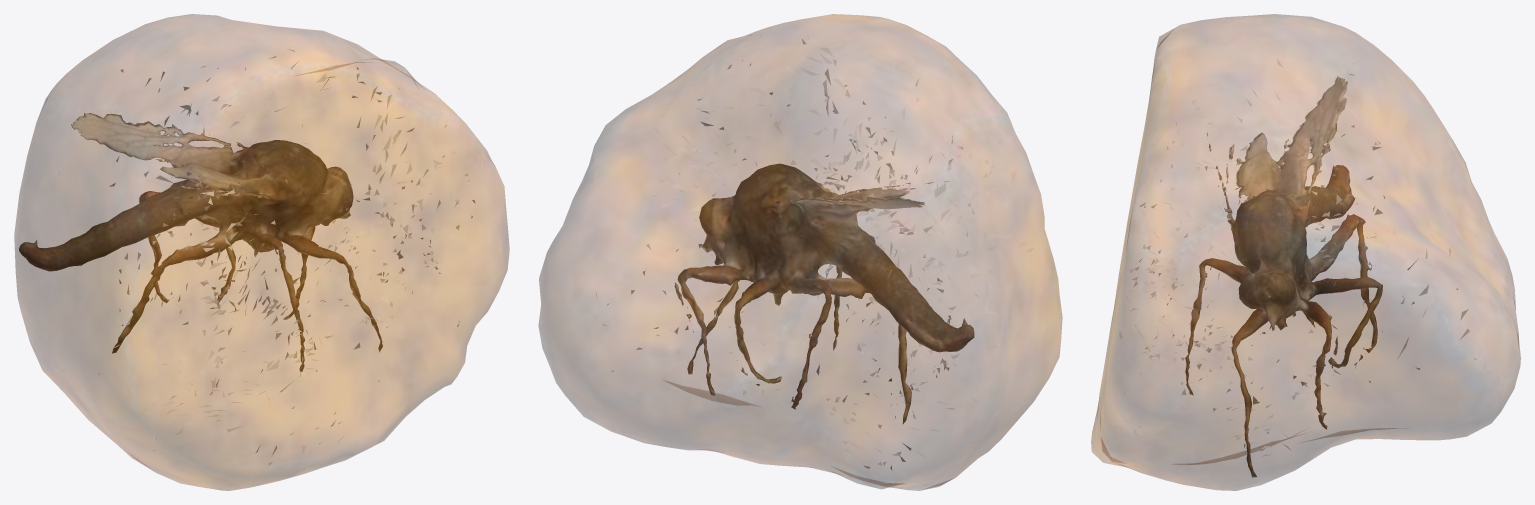
File: amber.glb
3 renders of one model, left to right at view 1: azimuth 30°, elevation 25°; view 2: azimuth 150°, elevation 25°; view 3: azimuth 270°, elevation 25°, orthographic. The views are drawn at different scales.
Parts seen in each view (by area): view 1: 5_amber_lr, 2_mosquito_lr, 6_eclats; view 2: 5_amber_lr, 2_mosquito_lr, 6_eclats; view 3: 5_amber_lr, 2_mosquito_lr, 6_eclats.
Part boxes in pixels (left/top/right/bottom): 5_amber_lr: left=14, top=14, right=509, bottom=490; 2_mosquito_lr: left=19, top=113, right=382, bottom=371; 6_eclats: left=98, top=49, right=475, bottom=465; 5_amber_lr: left=538, top=14, right=1062, bottom=490; 2_mosquito_lr: left=674, top=163, right=974, bottom=423; 6_eclats: left=596, top=35, right=1036, bottom=470; 5_amber_lr: left=1091, top=14, right=1520, bottom=490; 2_mosquito_lr: left=1185, top=76, right=1382, bottom=477; 6_eclats: left=1109, top=59, right=1476, bottom=456.
Bounding box in the file's own units: 0.0972 × 0.0997 × 0.0879.
3 materials, 2 textured.
